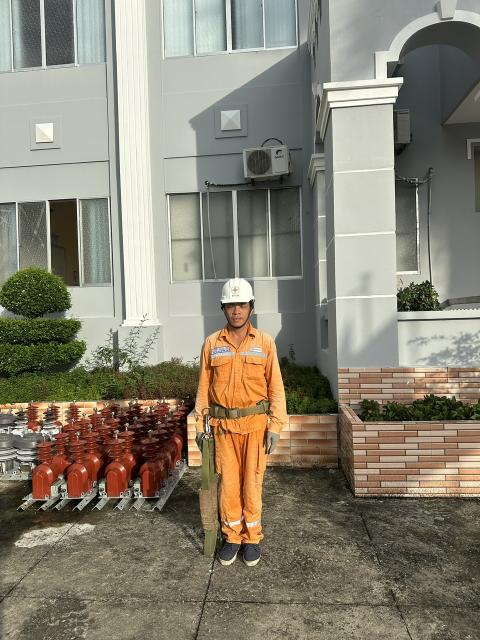gloves: (258, 426, 283, 456), (194, 430, 211, 450)
harness: (204, 398, 269, 422)
helmet: (215, 271, 262, 308)
shoes: (218, 536, 241, 566), (241, 538, 263, 568)
